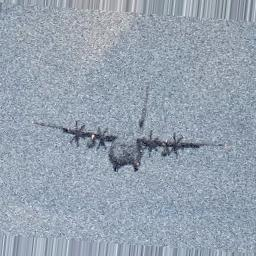Airplane: (45, 99, 225, 173)
